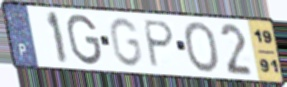1: (44, 10, 71, 66)
2: (218, 21, 257, 77)
G: (65, 13, 104, 67), (107, 16, 145, 69)
O: (181, 20, 222, 75)
P: (143, 18, 177, 70)
